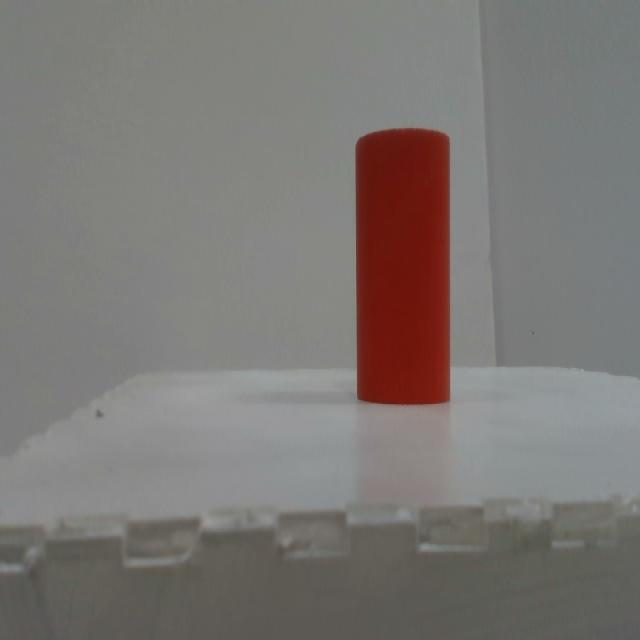red_cylinder: (358, 125, 453, 407)
